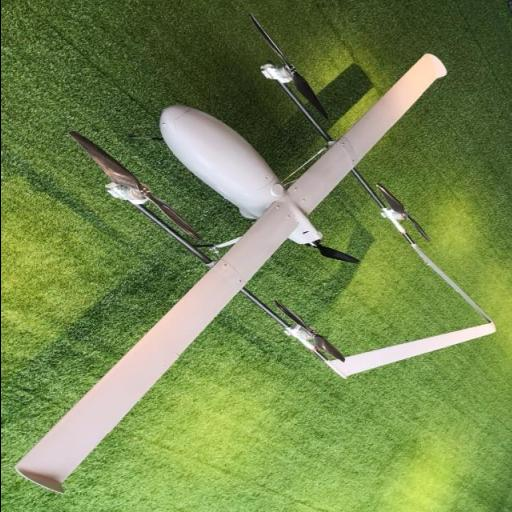uav: (12, 12, 501, 500)
